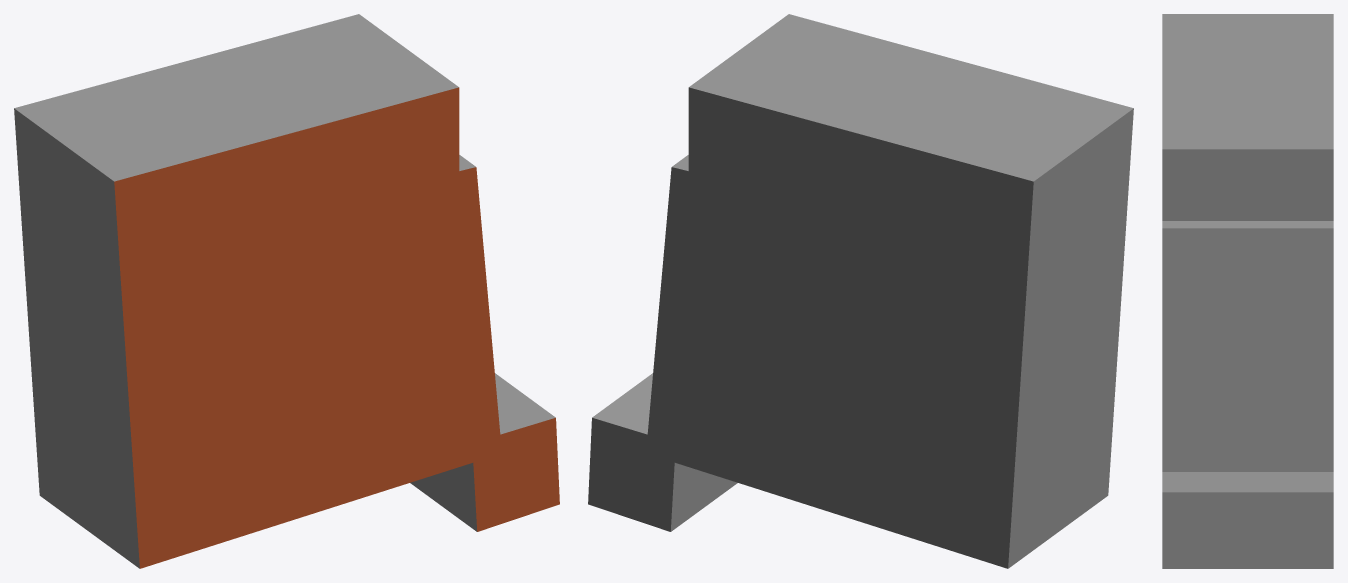
File: construction_4304_assumed_A_Casa_h6m.obj
3 renders of one model, left to right at view 1: azimuth 30°, elevation 25°; view 2: azimuth 150°, elevation 25°; view 3: azimuth 270°, elevation 25°, orthographic. The views are drawn at different scales.
Parts seen in each view (by area): view 1: construction_4304_assumed_A_Casa; view 2: construction_4304_assumed_A_Casa; view 3: construction_4304_assumed_A_Casa.
Boxes of the visible parts, <box> form: construction_4304_assumed_A_Casa: <box>14,14,559,568</box>; construction_4304_assumed_A_Casa: <box>588,14,1133,568</box>; construction_4304_assumed_A_Casa: <box>1162,14,1333,568</box>.
Size of the model in its own units: 15.41 by 14.84 by 6.
